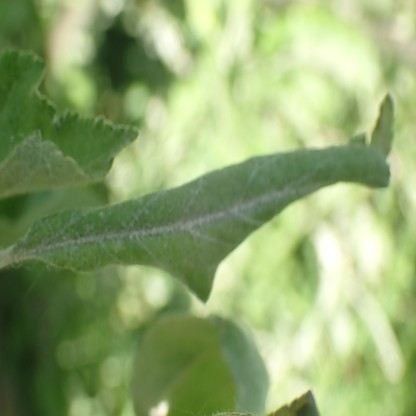powder: (7, 151, 337, 307), (0, 138, 89, 198)
